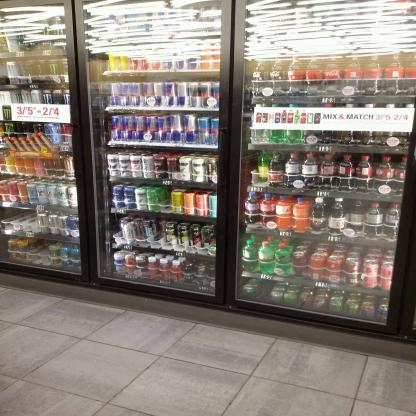Void: (4, 209, 36, 232), (110, 216, 119, 244), (41, 241, 48, 265), (258, 288, 269, 299)
